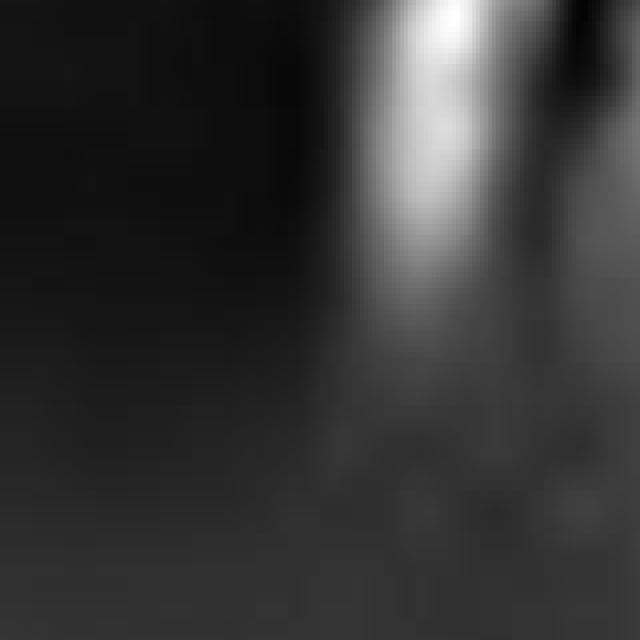person: (361, 1, 549, 385)
